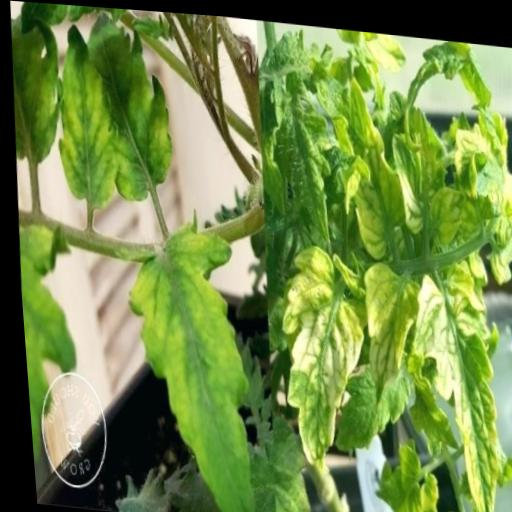Yellow Leaf Curl Virus: (106, 210, 266, 512), (395, 252, 510, 512), (268, 239, 366, 475), (79, 13, 176, 206), (335, 63, 408, 256), (49, 27, 121, 215), (350, 253, 426, 402), (419, 174, 468, 251), (448, 112, 490, 191)
